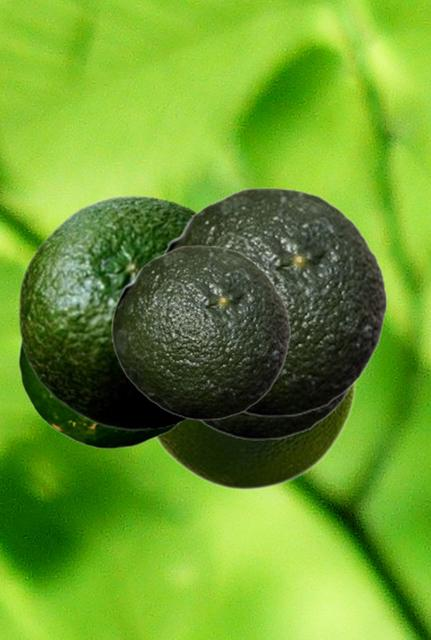calamansi: (160, 187, 387, 416), (17, 194, 198, 430), (111, 245, 290, 419), (154, 383, 356, 489), (18, 338, 182, 448), (194, 380, 358, 439)
